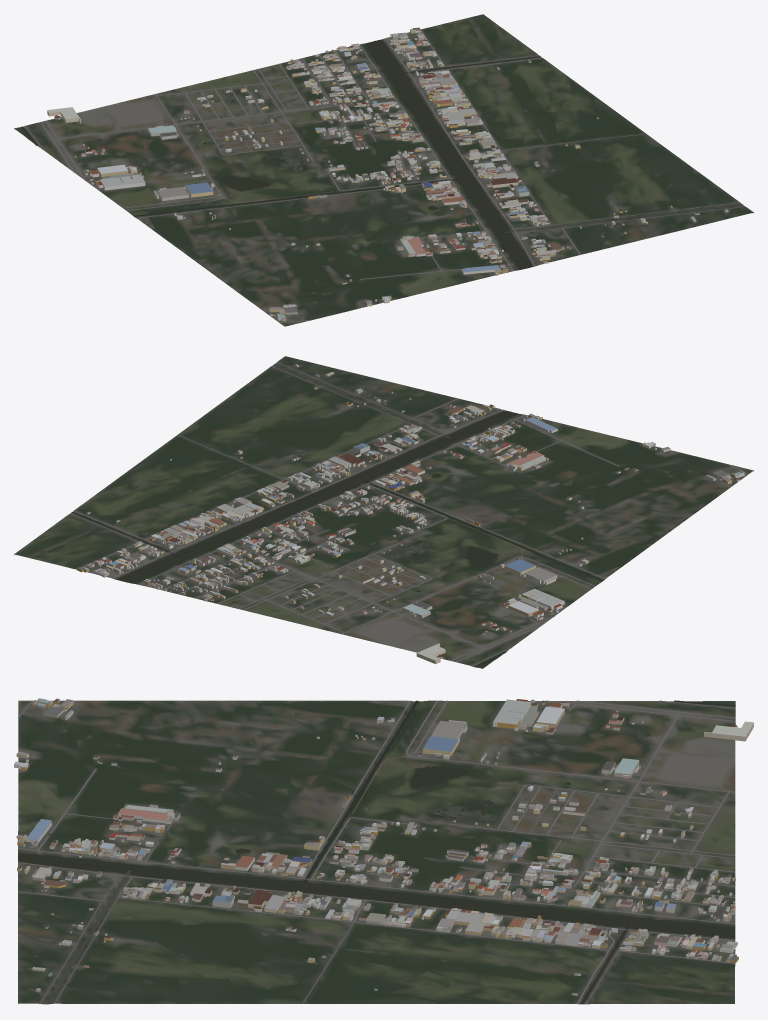
3 views of the same model, one above another, from view 1: azimuth 30°, elevation 25°; view 2: azimuth 150°, elevation 25°; view 3: azimuth 270°, elevation 25° (orthographic). The views are drawn at different scales.
Visible parts, largest first — view 1: ground, buildings, roads, water; view 2: ground, buildings, water, roads; view 3: ground, buildings, roads, water.
Boxes of the visible parts, x1,y1,x2,y2 form: ground: (14,14,753,326); buildings: (47,27,728,321); roads: (25,29,745,322); water: (21,39,742,269); ground: (14,356,753,668); buildings: (77,364,744,664); water: (71,364,603,667); roads: (70,362,748,665); ground: (18,700,735,1004); buildings: (14,698,753,995); roads: (18,700,735,1003); water: (18,700,735,1004).
Bounding box in the file's own units: 1404 × 18.19 × 1445.
